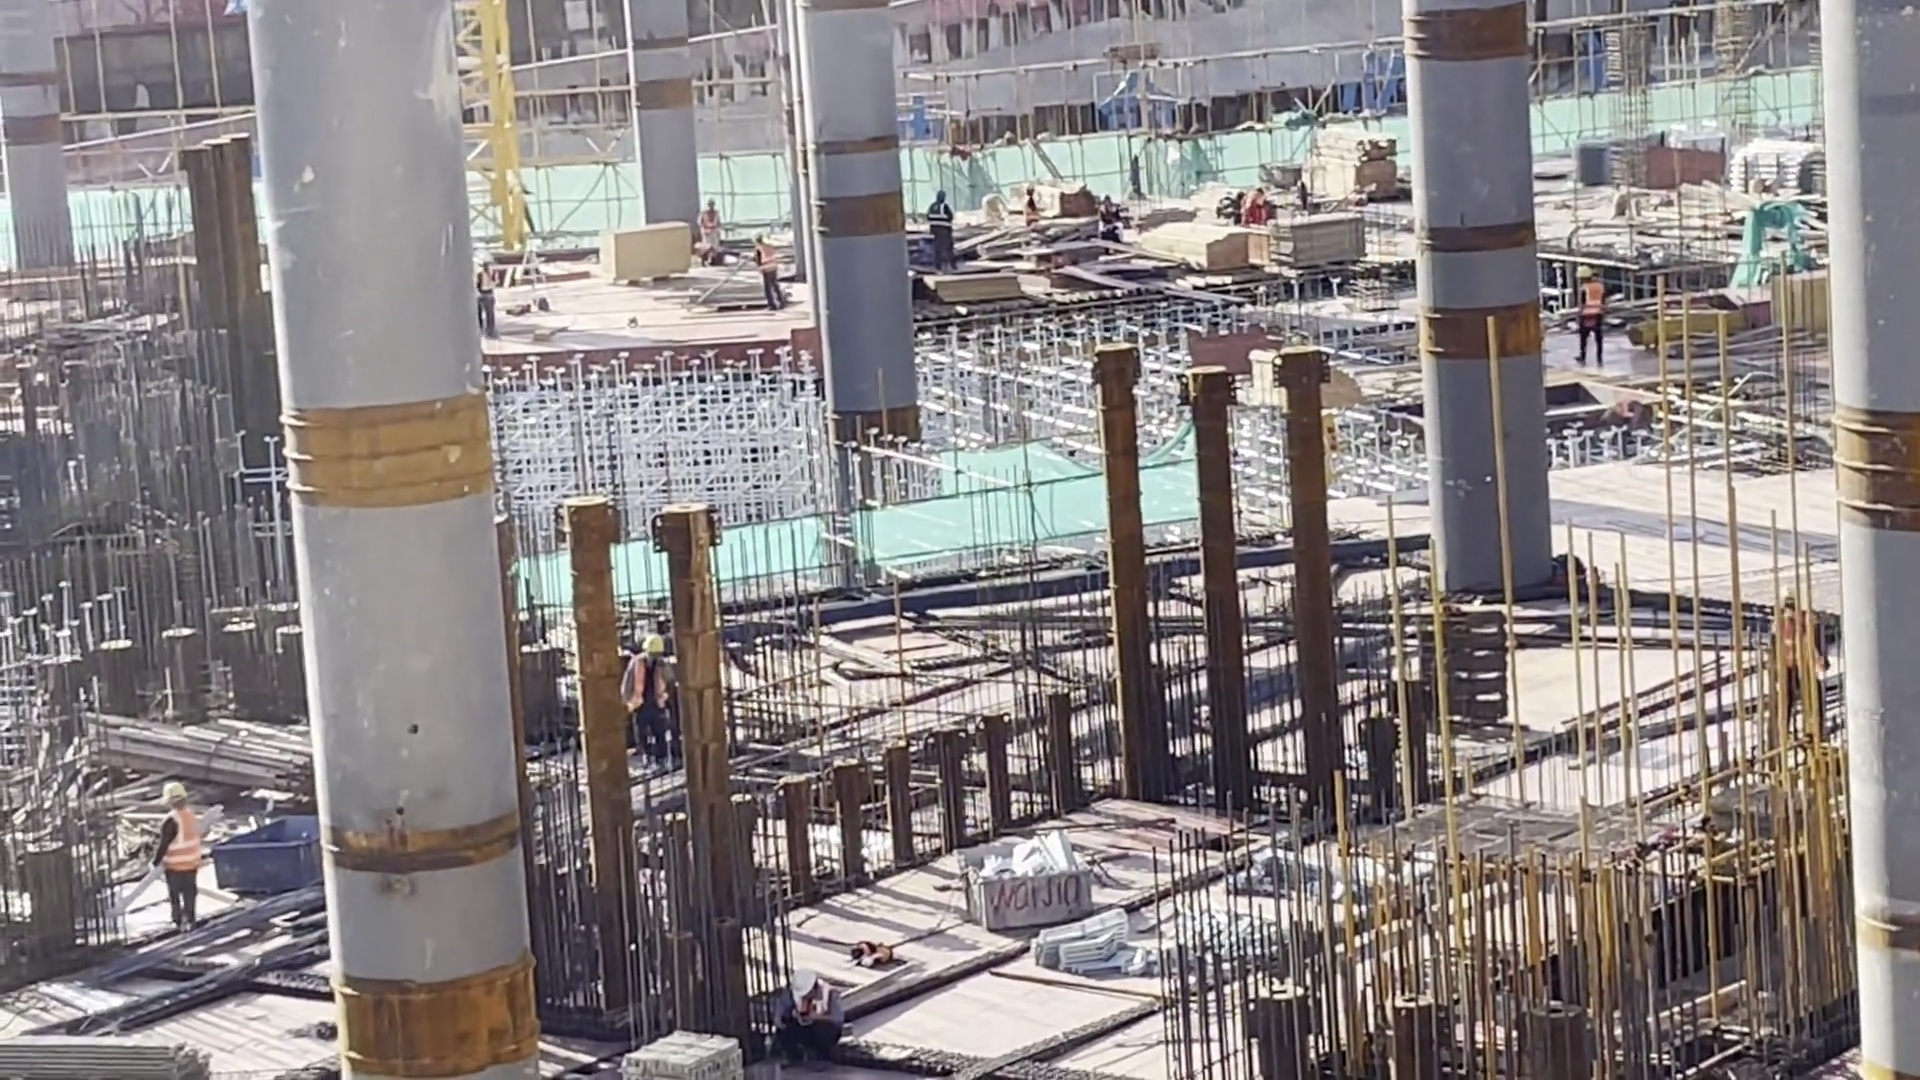helmet: (638, 629, 670, 668), (153, 774, 190, 802), (1571, 259, 1600, 289), (785, 971, 818, 994), (1781, 579, 1807, 609), (750, 224, 771, 242), (931, 181, 950, 200), (482, 249, 497, 267)
person: (128, 749, 217, 942), (1765, 565, 1833, 733), (756, 955, 845, 1057), (617, 617, 686, 739), (1562, 256, 1619, 349), (917, 185, 969, 275), (740, 220, 784, 313), (466, 257, 506, 335), (700, 189, 722, 264), (1011, 175, 1047, 220), (1244, 179, 1275, 226), (1092, 189, 1126, 226)
vest: (152, 790, 208, 882), (624, 652, 671, 705), (926, 200, 961, 235), (1576, 285, 1607, 322), (1249, 197, 1276, 216)
